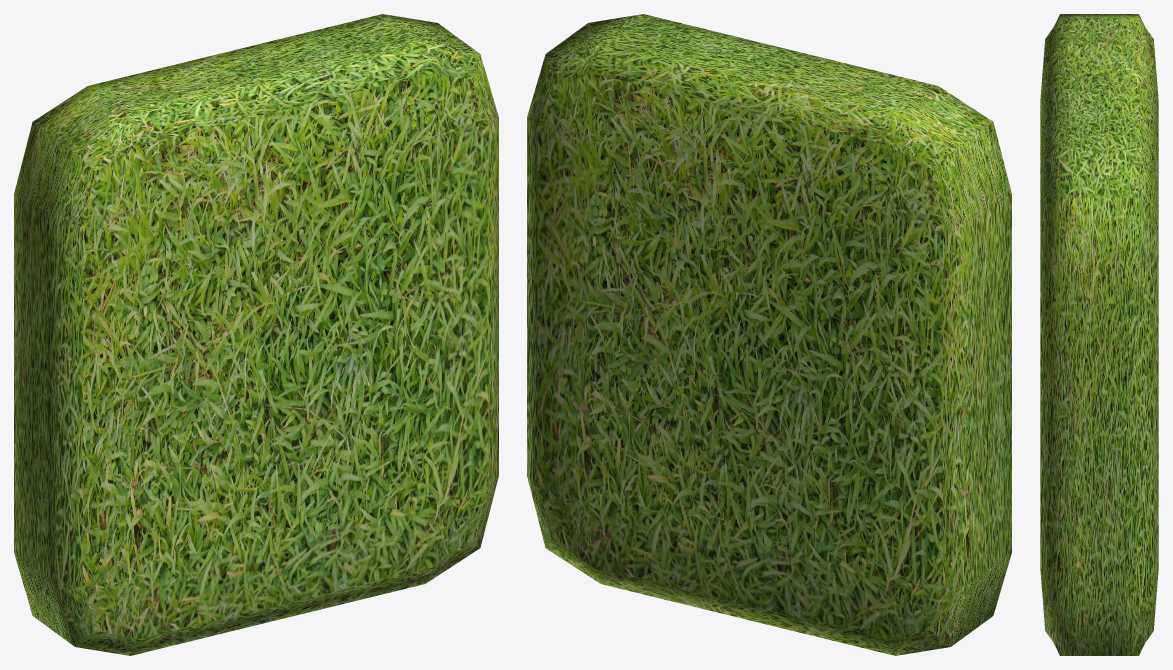
Rendered from grasswall2.fbx.
The picture shows the model from 3 angles, left to right: view 1: azimuth 30°, elevation 25°; view 2: azimuth 150°, elevation 25°; view 3: azimuth 270°, elevation 25°; orthographic projection. The views are drawn at different scales.
Visible parts, largest first — view 1: Box001; view 2: Box001; view 3: Box001.
Boxes of the visible parts, <box> form: Box001: <box>14,14,498,655</box>; Box001: <box>527,14,1011,655</box>; Box001: <box>1040,14,1158,655</box>.
Bounding box in the file's own units: 209 × 244 × 52.28.
Materials: 1 (1 with a texture image).
